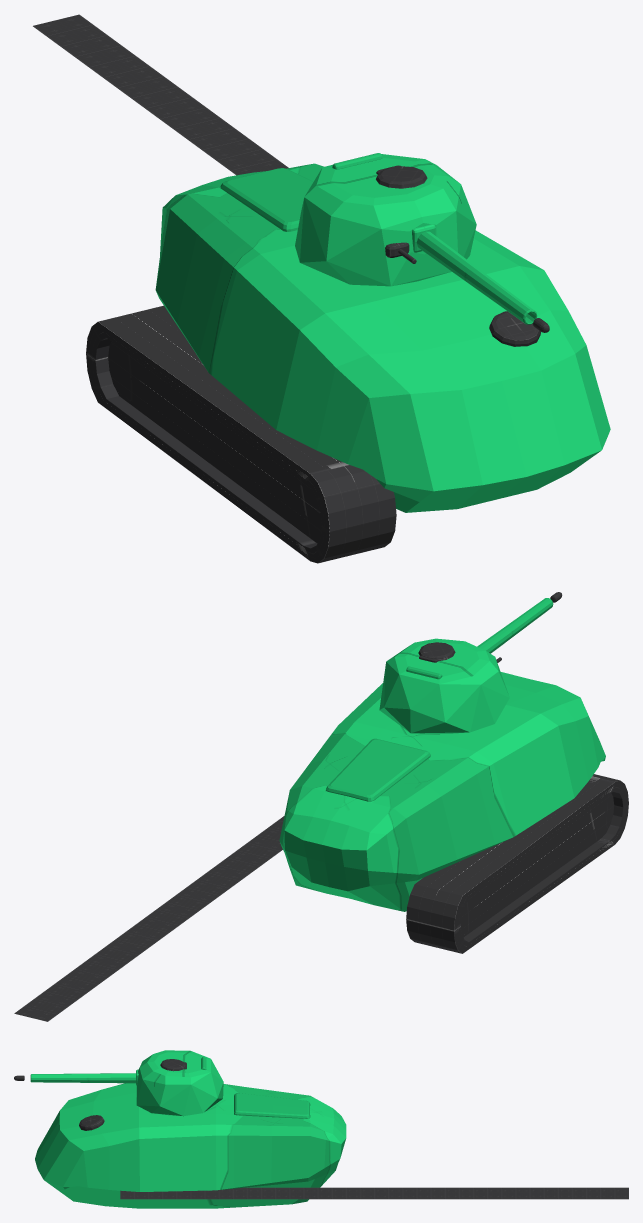
File: tank1.glb
3 views of the same model, one above another, from view 1: azimuth 30°, elevation 25°; view 2: azimuth 150°, elevation 25°; view 3: azimuth 270°, elevation 25° (orthographic). The views are drawn at different scales.
Visible parts, largest first — view 1: hull, right_track, turret, Plane, main_gun, driver_hatch, commander_hatch; view 2: hull, right_track, turret, Plane, main_gun, commander_hatch; view 3: hull, Plane, turret, main_gun, driver_hatch, commander_hatch.
Part boxes in pixels (x1,y1,x2,y2): hull: (155,163,610,512); right_track: (86,305,396,563); turret: (295,153,476,286); Plane: (33,14,288,175); main_gun: (412,224,537,324); driver_hatch: (489,311,540,346); commander_hatch: (376,165,427,188); hull: (279,672,605,911); right_track: (406,774,628,953); turret: (379,638,509,733); Plane: (14,816,284,1021); main_gun: (477,598,553,653); commander_hatch: (418,642,455,662); hull: (35,1083,346,1208); Plane: (120,1187,628,1199); turret: (136,1050,223,1116); main_gun: (30,1069,138,1085); driver_hatch: (79,1115,104,1130); commander_hatch: (160,1059,186,1071).
Bounding box in the file's own units: 3.37 × 3.07 × 11.84.
Materials: 2 (2 with a texture image).
